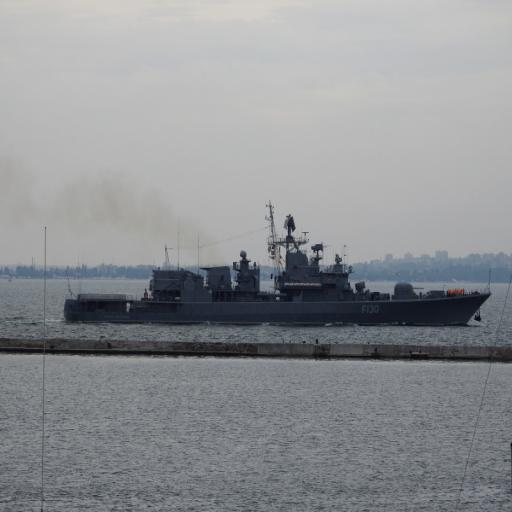Fragata: (61, 195, 495, 327)
